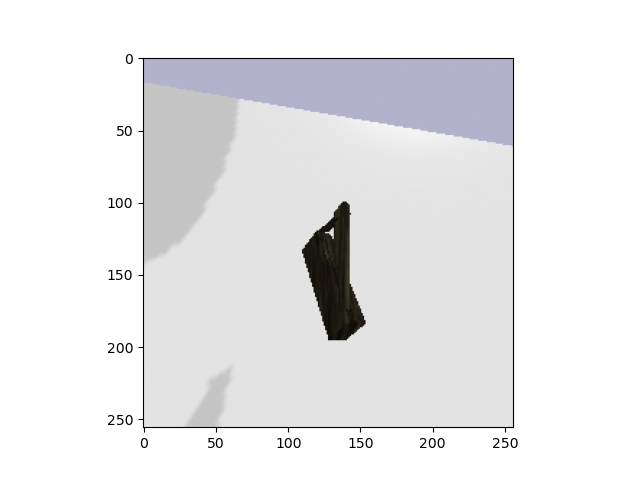v249b387_109: (291, 190, 376, 351)
